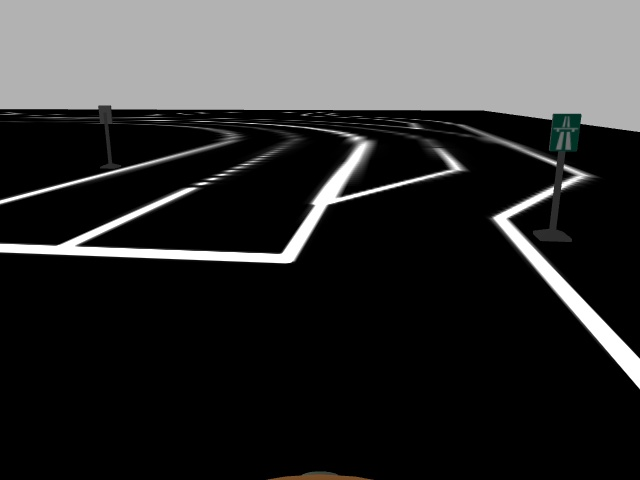enter_highway: (546, 112, 583, 153)
